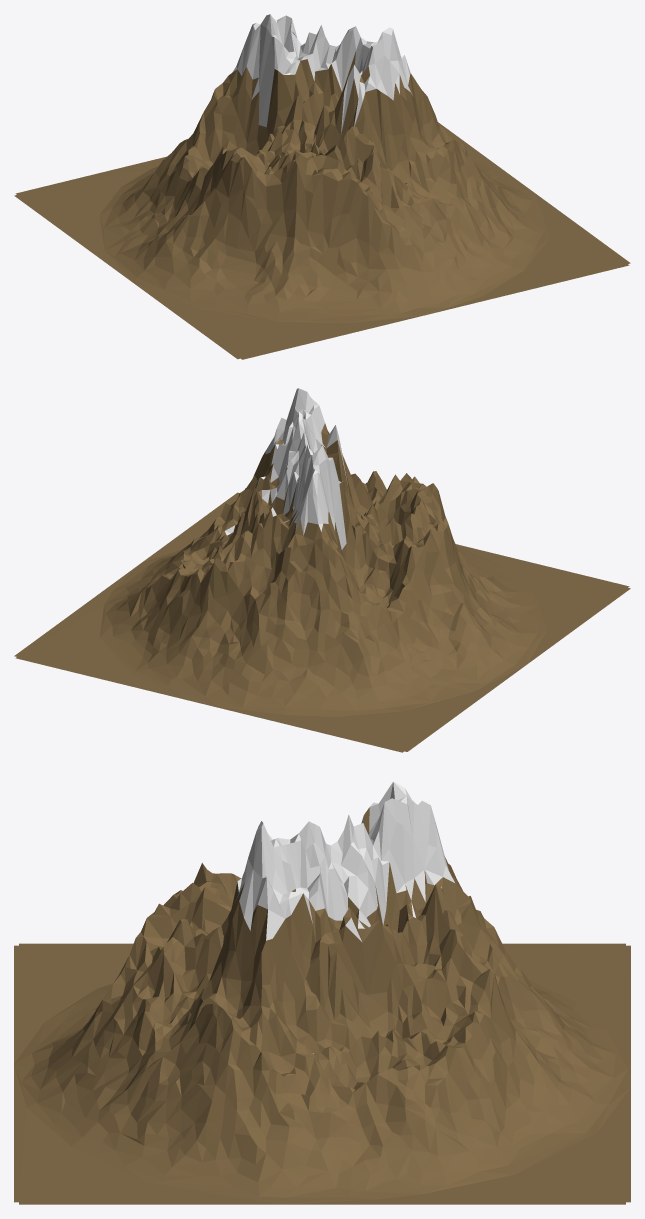
The model's file is mountain.fbx.
The picture shows the model from 3 angles, top to bottom: view 1: azimuth 30°, elevation 25°; view 2: azimuth 150°, elevation 25°; view 3: azimuth 270°, elevation 25°; orthographic projection. The views are drawn at different scales.
Parts seen in each view (by area): view 1: Landscape; view 2: Landscape; view 3: Landscape.
Boxes of the visible parts, <box> form: Landscape: <box>14,14,630,359</box>; Landscape: <box>14,388,630,752</box>; Landscape: <box>14,781,630,1204</box>.
Size of the model in its own units: 195 by 97.94 by 195.
